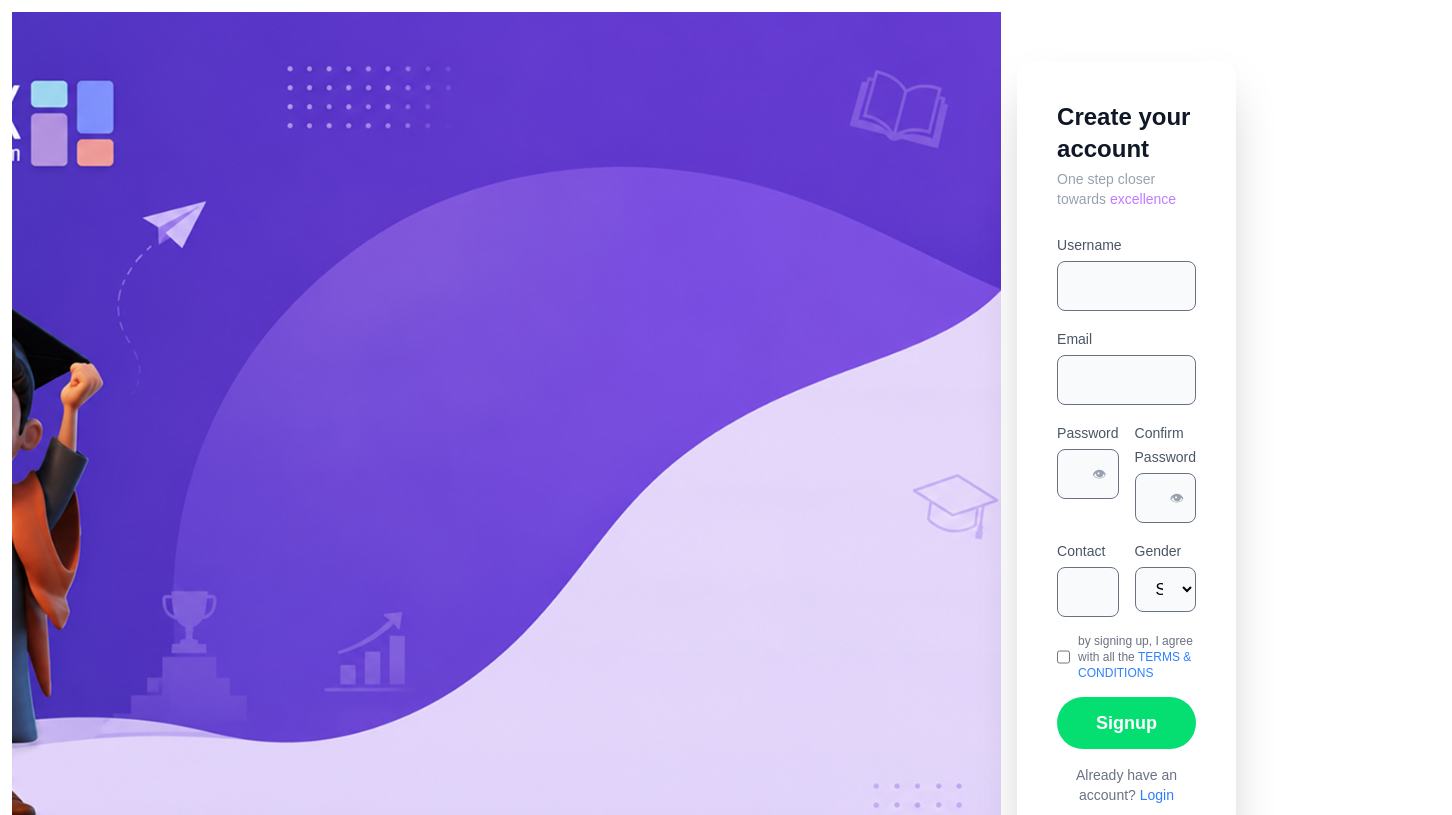
Scenario: RegisterPage › should show error if terms not agreed
Type "password123" into the 1st password field named "password" at (1088, 474), box [1057,449,1119,499]
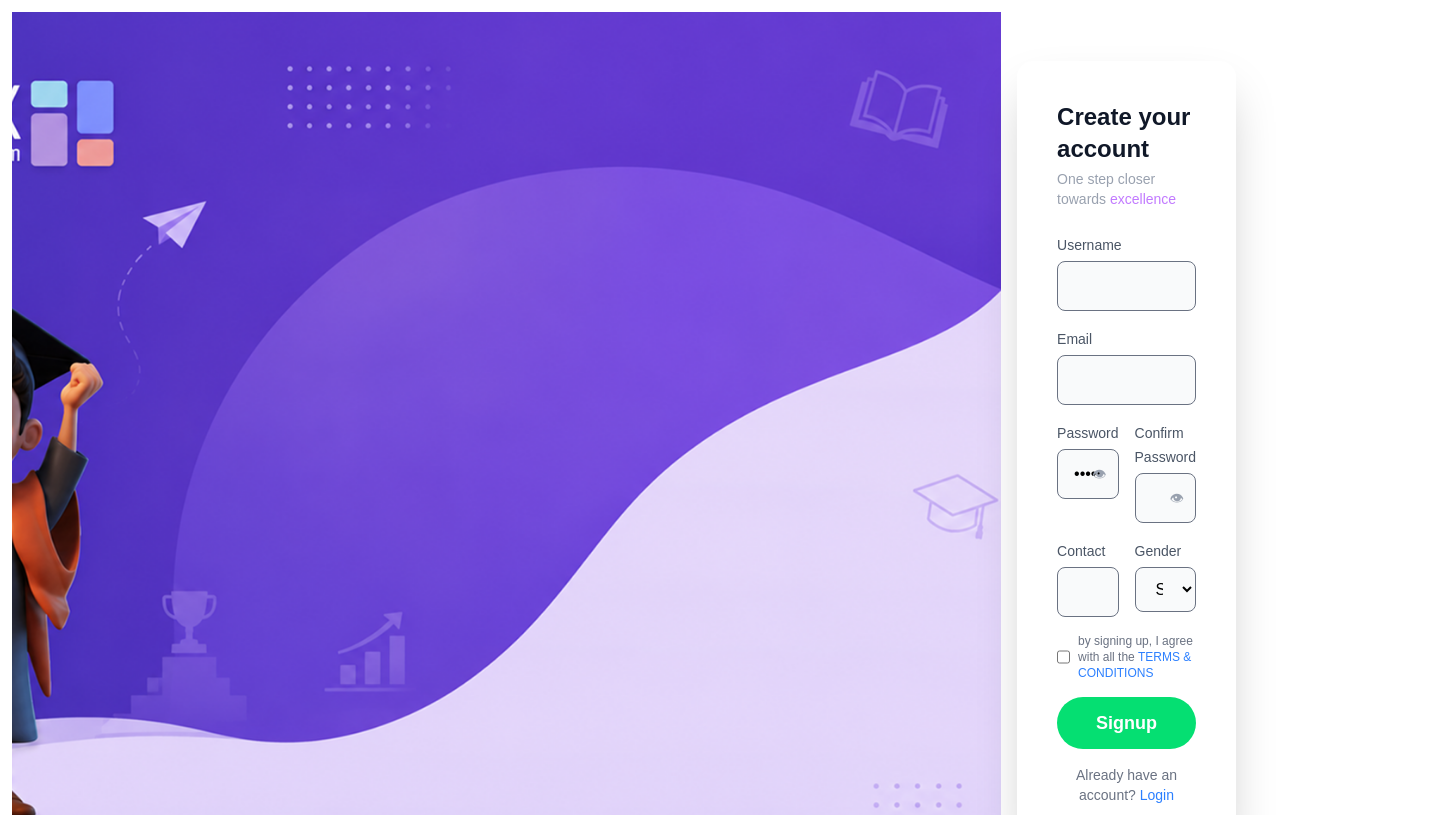
Type "password123" into the password field named "confirmPassword" below "Confirm Password" at (1165, 498), box [1134,473,1196,523]
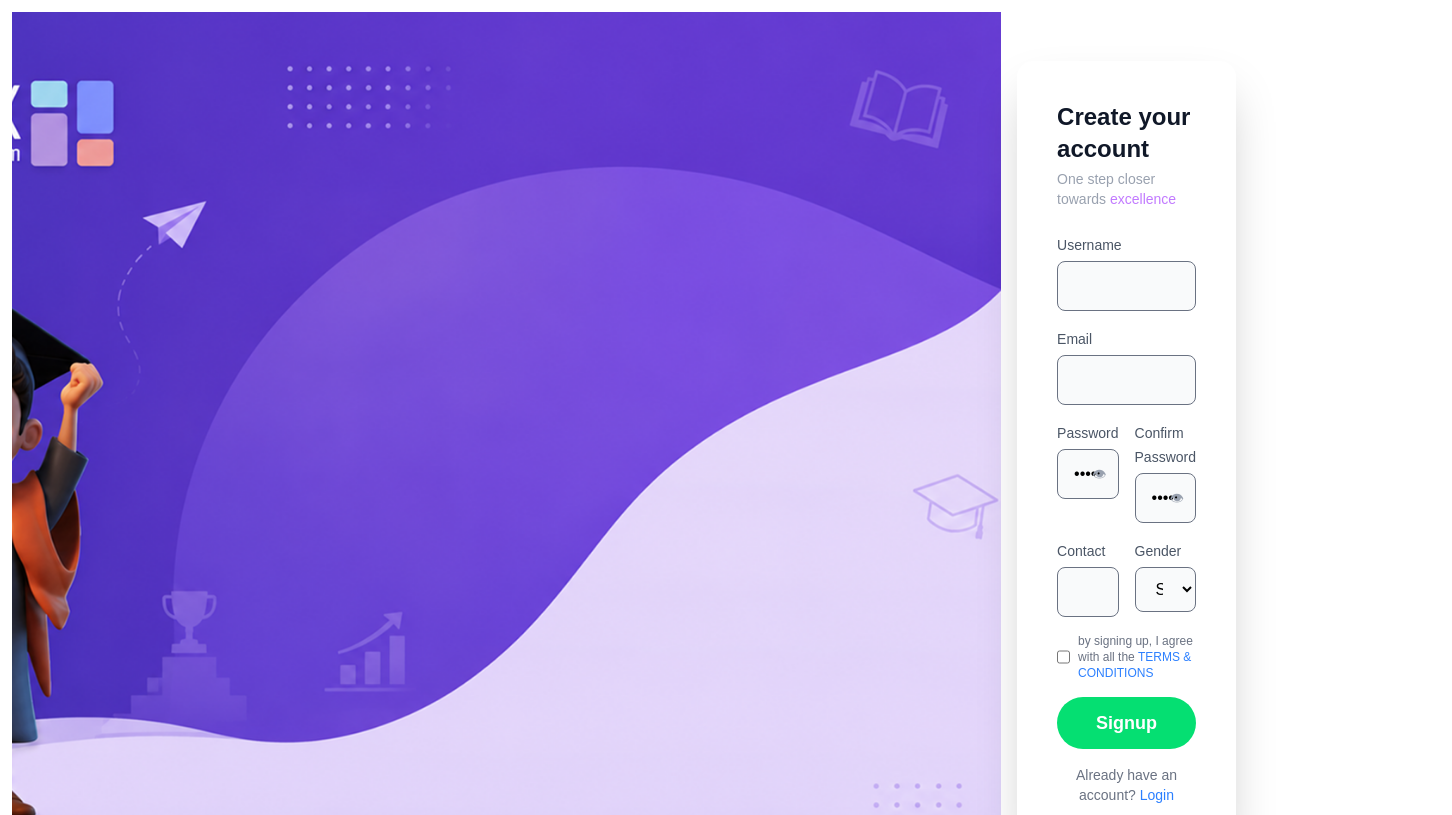
Click the button "Signup" at (1127, 723), box [1057,697,1196,749]
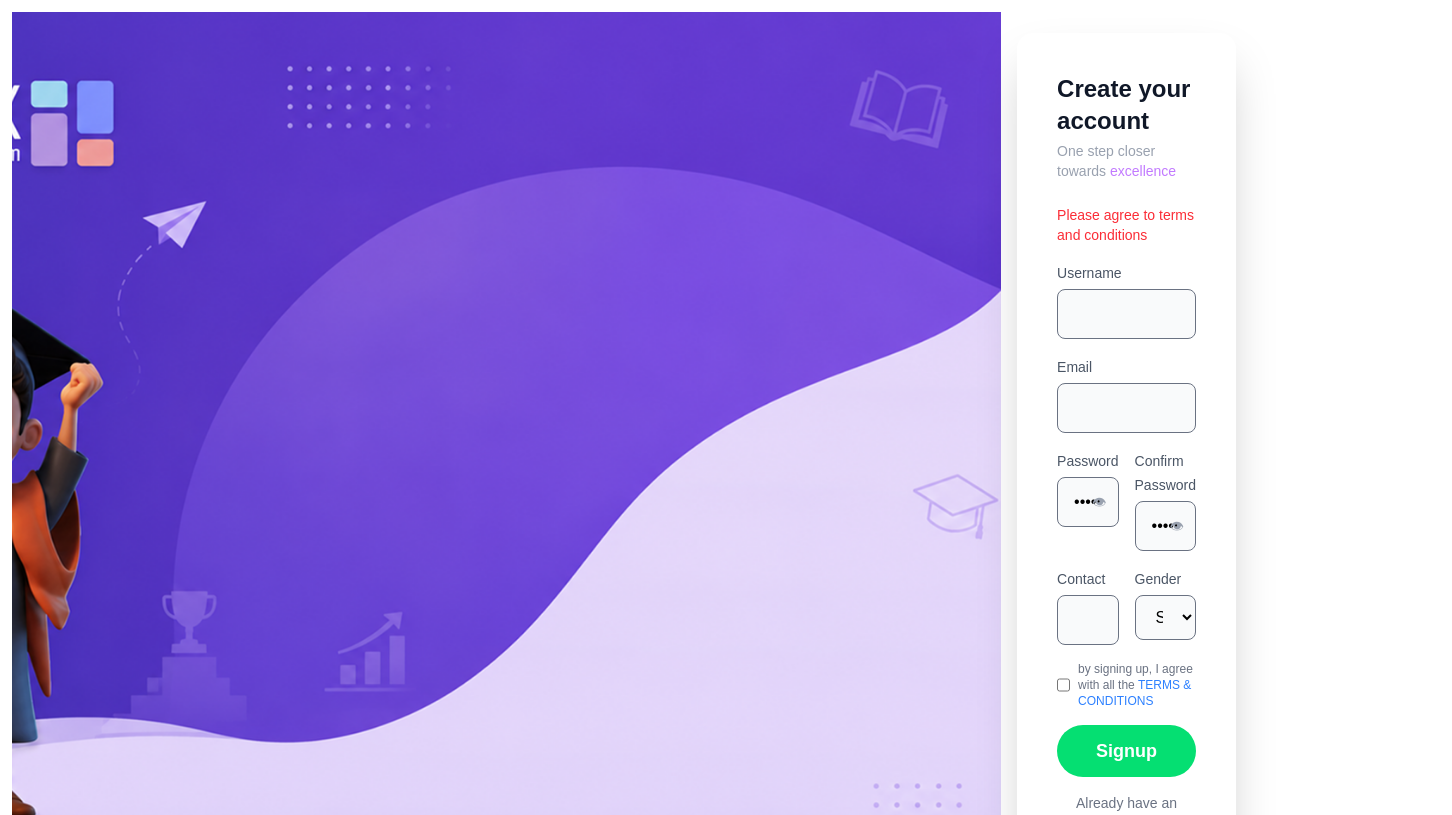
Expected: the text "Please agree to terms and conditions" is shown, [1057,205,1196,245]
